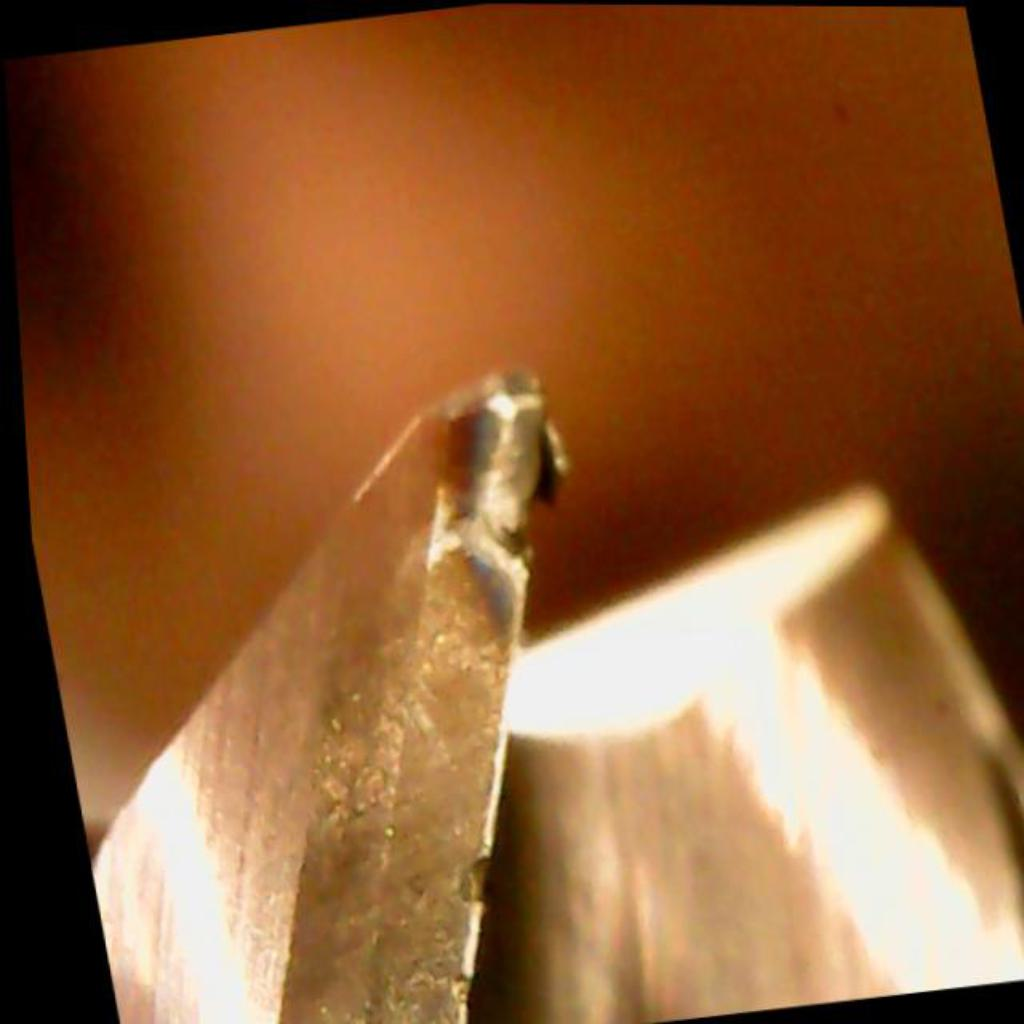Tool-wear-class-1: (249, 340, 661, 915)
